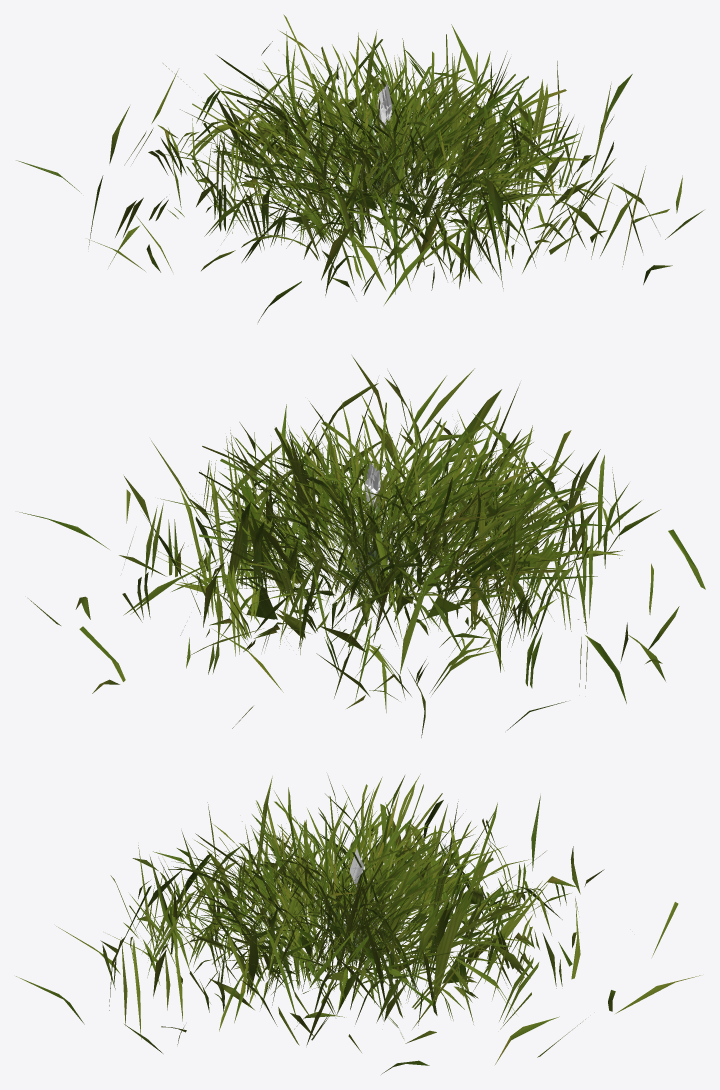
The model's file is grass_pack.glb.
3 views of the same model, one above another, from view 1: azimuth 30°, elevation 25°; view 2: azimuth 150°, elevation 25°; view 3: azimuth 270°, elevation 25° (orthographic). The views are drawn at different scales.
Parts seen in each view (by area): view 1: sc_grass_clump_02_high.002, sc_grass_02_high.002, sc_grass_duo_02_high.002, sc_grass_tiny_01_high.002, dandelion; view 2: sc_grass_clump_02_high.002, sc_grass_02_high.002, sc_grass_duo_02_high.002, sc_grass_tiny_01_high.002, dandelion, grass_clump_a; view 3: sc_grass_02_high.002, sc_grass_clump_02_high.002, sc_grass_duo_02_high.002, sc_grass_tiny_01_high.002.
Boxes of the visible parts, bbox=[...] form: sc_grass_clump_02_high.002: bbox=[180, 14, 591, 247]; sc_grass_02_high.002: bbox=[16, 24, 703, 322]; sc_grass_duo_02_high.002: bbox=[123, 29, 577, 268]; sc_grass_tiny_01_high.002: bbox=[193, 62, 591, 290]; dandelion: bbox=[368, 83, 410, 201]; sc_grass_clump_02_high.002: bbox=[160, 393, 622, 635]; sc_grass_02_high.002: bbox=[19, 356, 705, 737]; sc_grass_duo_02_high.002: bbox=[130, 425, 587, 712]; sc_grass_tiny_01_high.002: bbox=[173, 445, 613, 667]; dandelion: bbox=[356, 463, 397, 577]; grass_clump_a: bbox=[348, 501, 403, 603]; sc_grass_02_high.002: bbox=[16, 776, 700, 1074]; sc_grass_clump_02_high.002: bbox=[151, 774, 545, 1009]; sc_grass_duo_02_high.002: bbox=[193, 802, 560, 1038]; sc_grass_tiny_01_high.002: bbox=[164, 840, 572, 1037].
Size of the model in its own units: 0.5698 by 0.1569 by 0.6228.
Materials: 8 (5 with a texture image).
